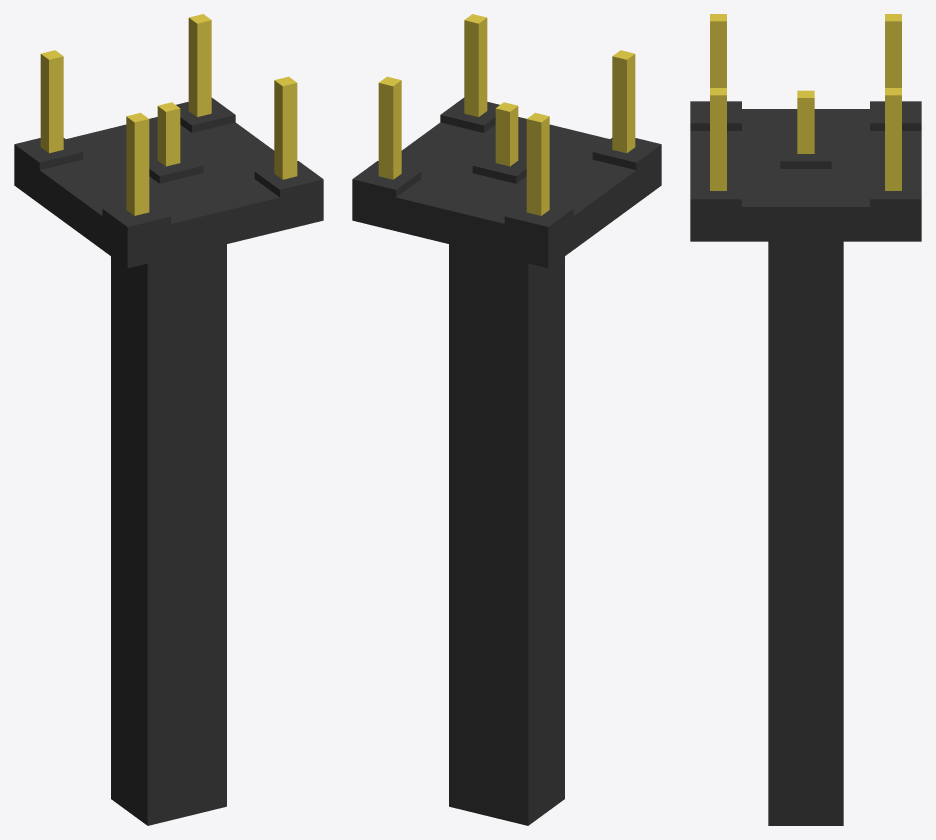
Rendered from light_floor.fbx.
3 views of the same model, side by side, from view 1: azimuth 30°, elevation 25°; view 2: azimuth 150°, elevation 25°; view 3: azimuth 270°, elevation 25° (orthographic). The views are drawn at different scales.
Visible parts, largest first — view 1: Light Floor; view 2: Light Floor; view 3: Light Floor.
Boxes of the visible parts, x1=… form: Light Floor: x1=14, y1=14, x2=323, y2=825; Light Floor: x1=352, y1=14, x2=661, y2=825; Light Floor: x1=690, y1=14, x2=921, y2=825.
Size of the model in its own units: 39.66 by 142 by 39.66.
